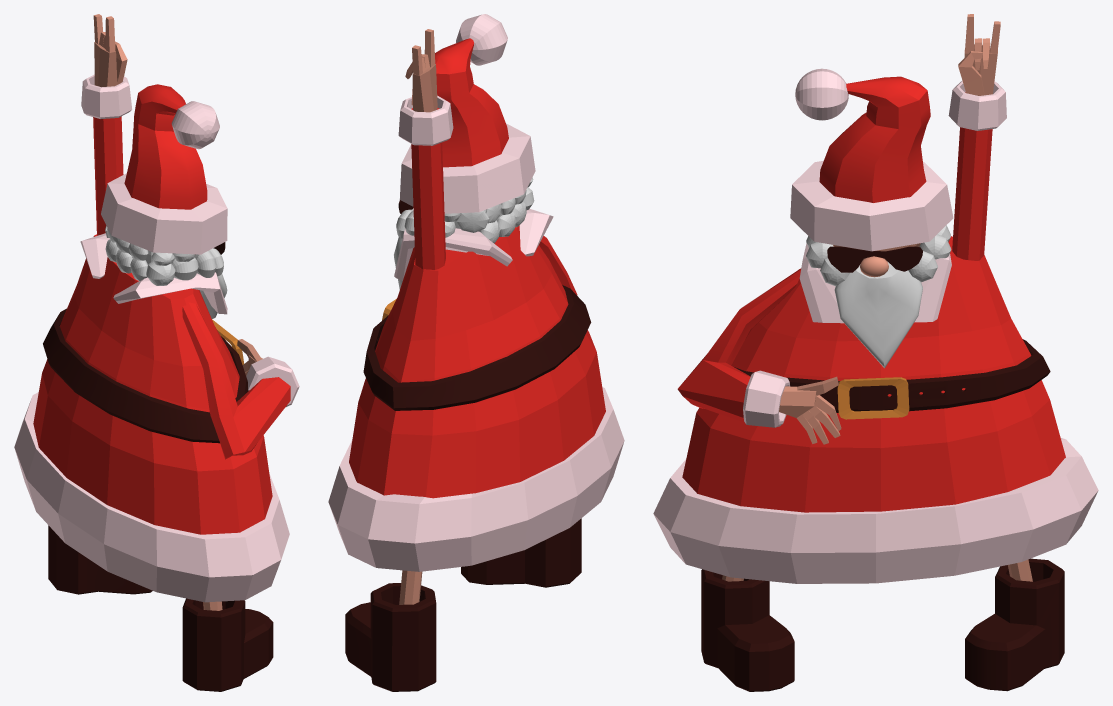
File: hw_06_santa.glb
3 views of the same model, side by side, from view 1: azimuth 30°, elevation 25°; view 2: azimuth 150°, elevation 25°; view 3: azimuth 270°, elevation 25° (orthographic). The views are drawn at different scales.
Visible parts, largest first — view 1: Cylinder.001, Cylinder.041, Circle.003, Cylinder.045, Cylinder.049, Circle.005, Circle.006, Cylinder.044, Circle.004, Cylinder.047, Sphere.002, Cylinder.046 (+5 smaller); view 2: Cylinder.001, Cylinder.041, Cylinder.049, Cylinder.044, Circle.003, Circle.005, Cylinder.045, Circle.004, Cylinder.046, Sphere.002, Cylinder.048, Cylinder.047 (+4 smaller); view 3: Cylinder.001, Cylinder.041, Circle.003, Cylinder.044, Cylinder.045, Circle.005, Cylinder.049, Sphere.008, Circle.006, Circle.004, Sphere.002, Cylinder.046 (+7 smaller).
Boxes of the visible parts, box(x1,y1,x2,y2) form: Cylinder.001: box(33, 234, 272, 534); Cylinder.041: box(14, 392, 289, 602); Circle.003: box(124, 84, 207, 209); Cylinder.045: box(182, 598, 273, 691); Cylinder.049: box(43, 308, 248, 443); Circle.005: box(101, 173, 227, 254); Circle.006: box(182, 302, 290, 459); Cylinder.044: box(48, 525, 152, 594); Circle.004: box(93, 116, 123, 235); Cylinder.047: box(113, 272, 227, 314); Sphere.002: box(171, 101, 219, 149); Cylinder.046: box(81, 74, 132, 118); Cylinder.001: box(349, 225, 605, 498); Cylinder.041: box(328, 387, 624, 571); Cylinder.049: box(363, 285, 591, 410); Cylinder.044: box(345, 583, 436, 691); Circle.003: box(435, 38, 508, 167); Circle.005: box(399, 123, 535, 213); Cylinder.045: box(461, 518, 581, 587); Circle.004: box(411, 108, 445, 269); Cylinder.046: box(398, 95, 453, 145); Sphere.002: box(456, 14, 507, 65); Cylinder.048: box(394, 228, 512, 280); Cylinder.047: box(519, 208, 553, 256); Cylinder.001: box(682, 236, 1065, 512); Cylinder.041: box(653, 438, 1098, 583); Circle.003: box(819, 76, 930, 202); Cylinder.044: box(965, 558, 1064, 691); Cylinder.045: box(701, 569, 794, 691); Circle.005: box(790, 160, 953, 251); Cylinder.049: box(734, 339, 1050, 412); Sphere.008: box(834, 261, 922, 368); Circle.006: box(677, 268, 800, 422); Circle.004: box(952, 92, 992, 260); Sphere.002: box(795, 68, 848, 120); Cylinder.046: box(948, 81, 1006, 130).
Size of the model in its own units: 3.12 by 9.26 by 5.81.
